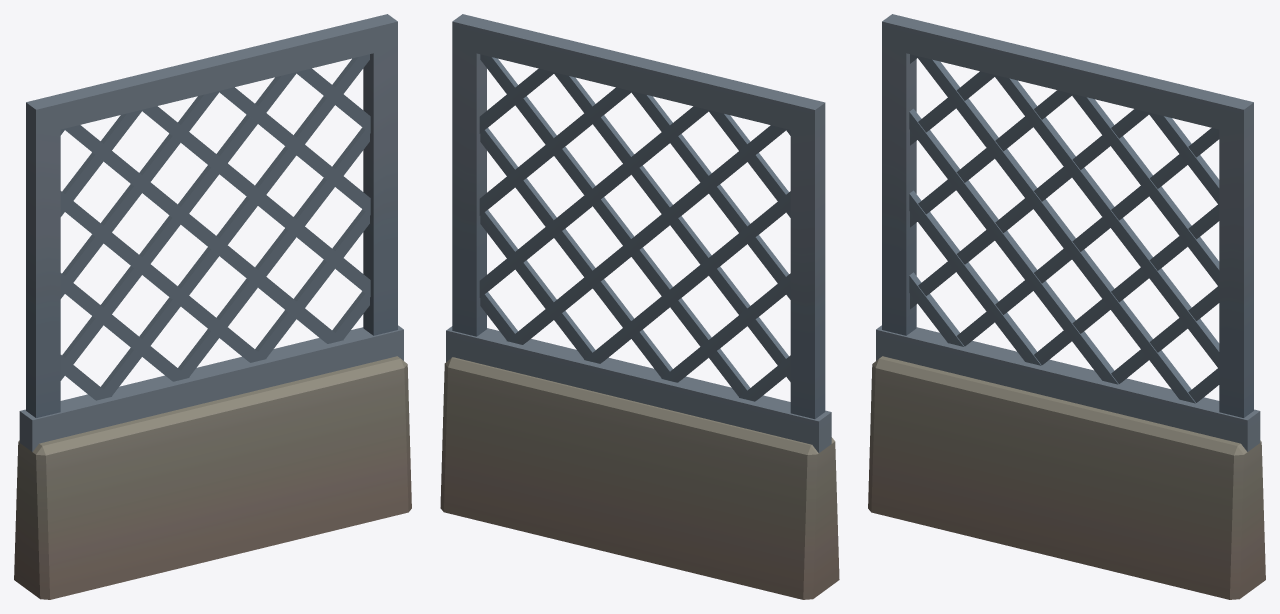
The model's file is Fence_1_A_7.fbx.
3 renders of one model, left to right at view 1: azimuth 30°, elevation 25°; view 2: azimuth 150°, elevation 25°; view 3: azimuth 330°, elevation 25°, orthographic.
Parts seen in each view (by area): view 1: Fence_1_A_7; view 2: Fence_1_A_7; view 3: Fence_1_A_7.
Boxes of the visible parts, left/top/right/bottom form: Fence_1_A_7: left=14, top=14, right=411, bottom=599; Fence_1_A_7: left=440, top=14, right=839, bottom=599; Fence_1_A_7: left=868, top=14, right=1265, bottom=599.
Bounding box in the file's own units: 200 × 248 × 30.52.
